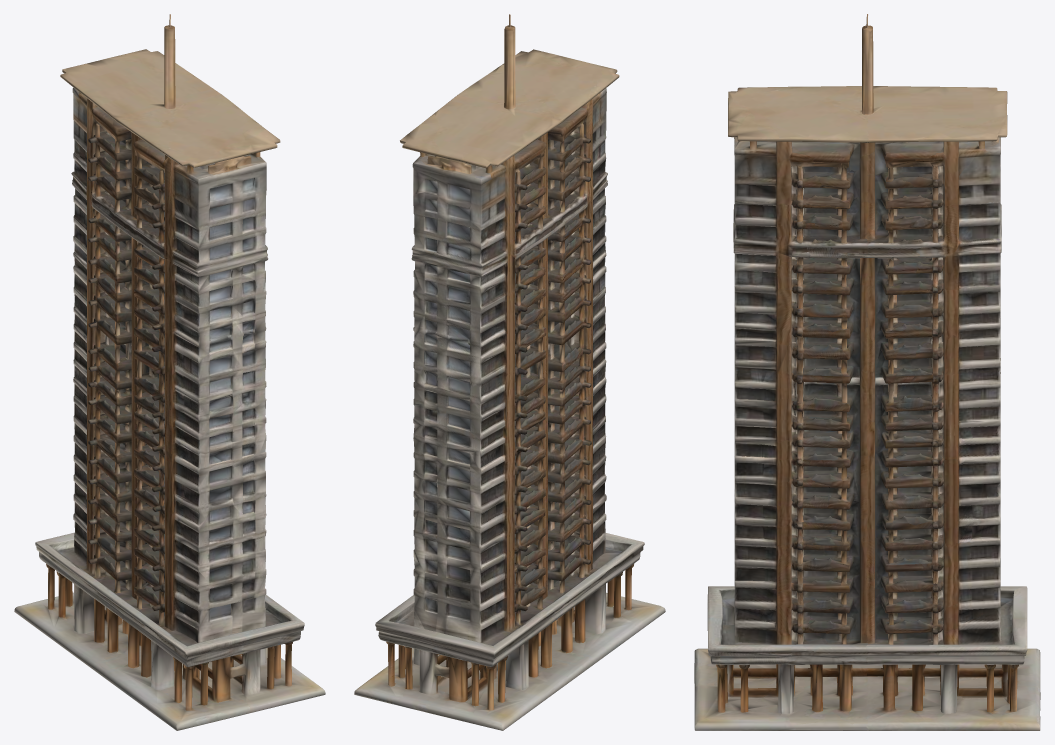
File: tower-b.glb
3 views of the same model, side by side, from view 1: azimuth 30°, elevation 25°; view 2: azimuth 150°, elevation 25°; view 3: azimuth 270°, elevation 25° (orthographic). The views are drawn at different scales.
Visible parts, largest first — view 1: tripo_node_cbf21c18-55c3-4700-8c6a-3f1ef0b96bc1; view 2: tripo_node_cbf21c18-55c3-4700-8c6a-3f1ef0b96bc1; view 3: tripo_node_cbf21c18-55c3-4700-8c6a-3f1ef0b96bc1.
Boxes of the visible parts, box(x1,y1,x2,y2) form: tripo_node_cbf21c18-55c3-4700-8c6a-3f1ef0b96bc1: box(14, 14, 325, 730); tripo_node_cbf21c18-55c3-4700-8c6a-3f1ef0b96bc1: box(354, 14, 665, 730); tripo_node_cbf21c18-55c3-4700-8c6a-3f1ef0b96bc1: box(694, 14, 1040, 730).
Bounding box in the file's own units: 7.33 × 30 × 13.86.
Materials: 1 (1 with a texture image).
